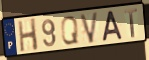9: (40, 18, 57, 48)
A: (101, 9, 124, 43)
H: (17, 17, 40, 53)
Q: (60, 15, 80, 46)
T: (123, 7, 139, 39)
V: (79, 10, 100, 45)
